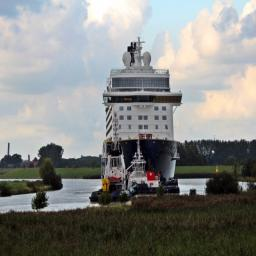cruises: (103, 33, 186, 196)
